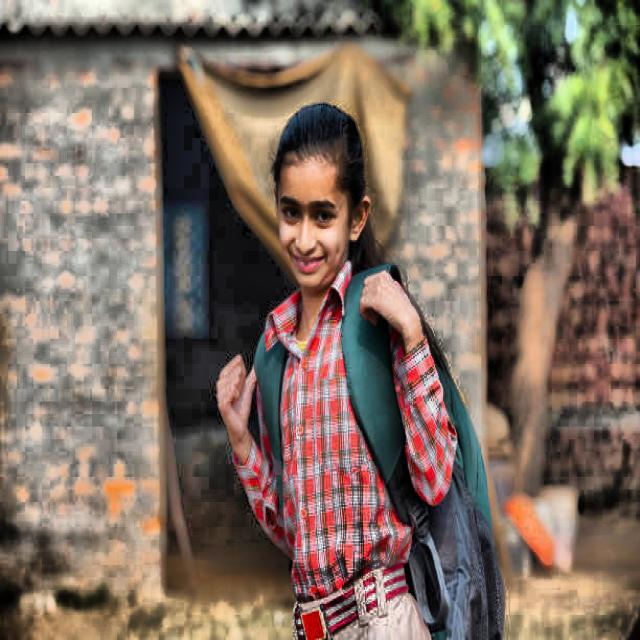Human: (211, 96, 528, 640)
